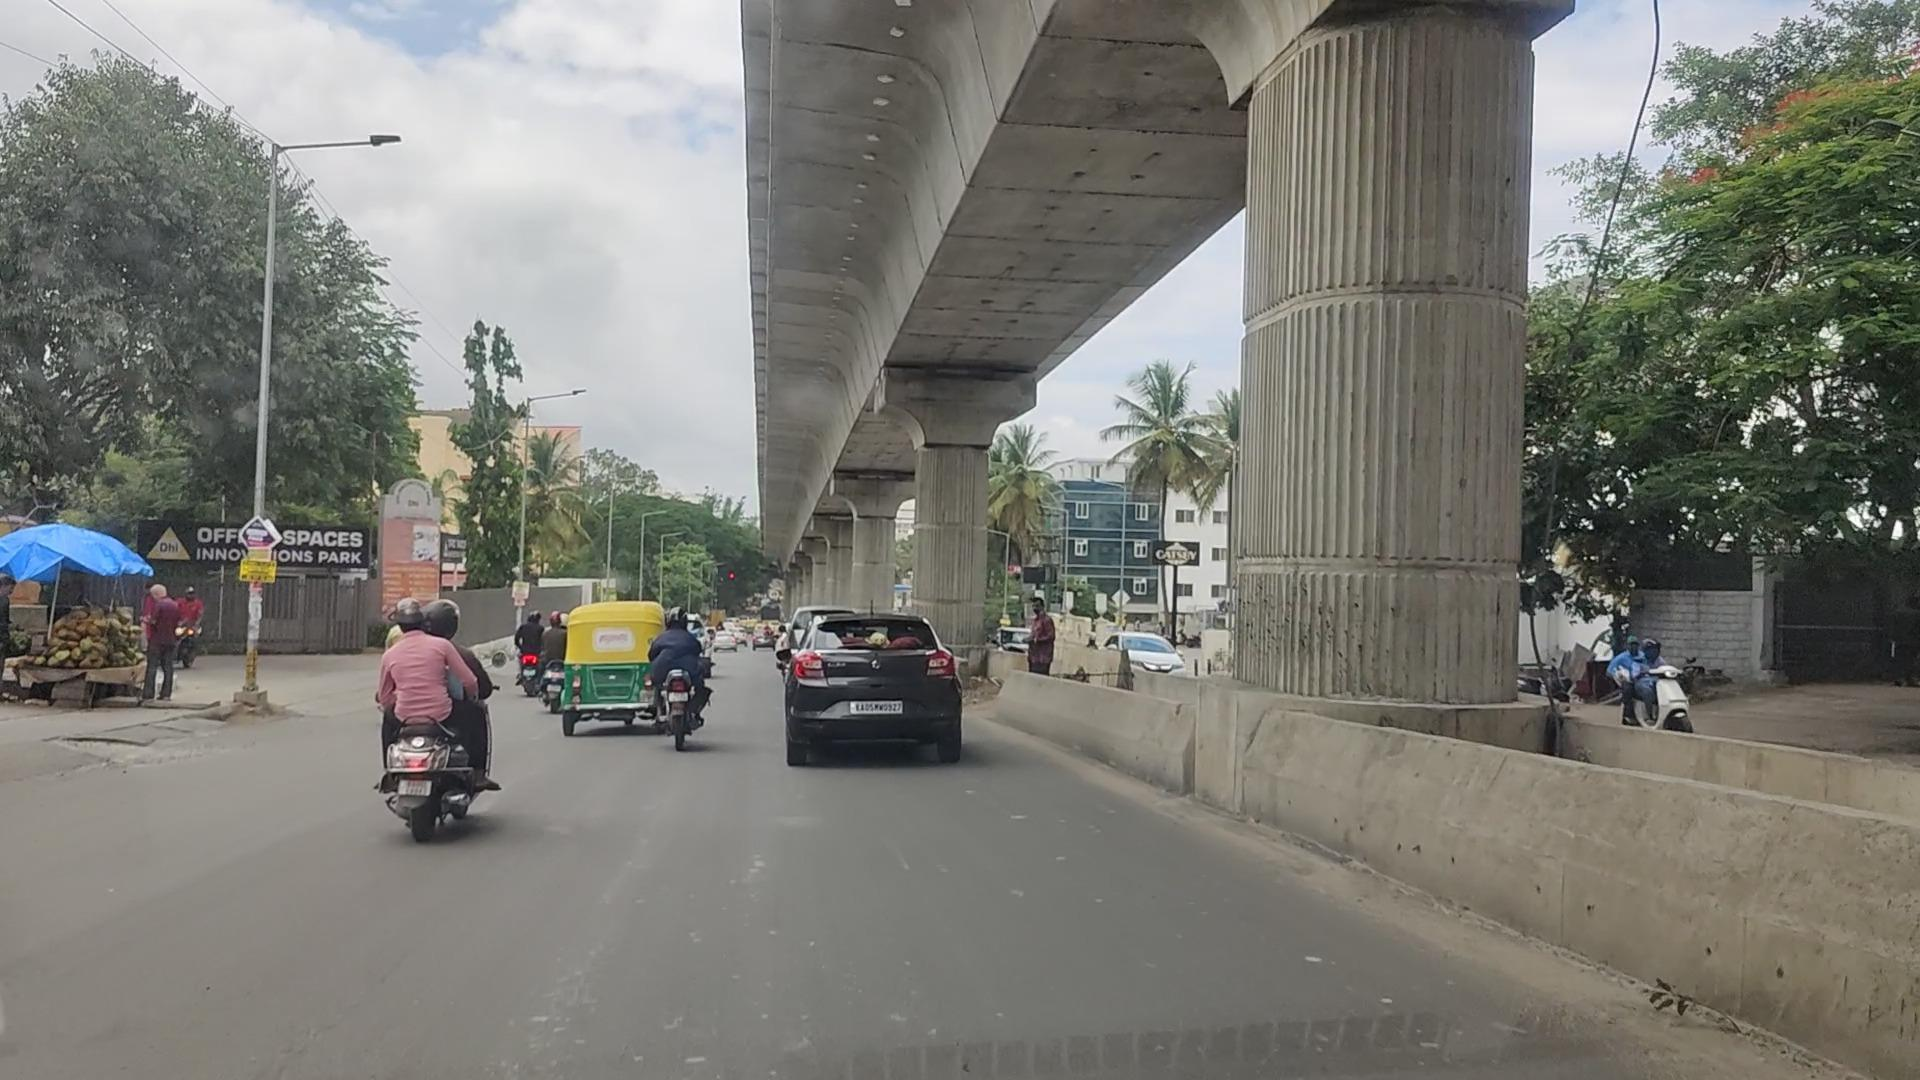LMV: (355, 585, 472, 852), (774, 620, 959, 782), (564, 607, 655, 740), (657, 615, 700, 737)
